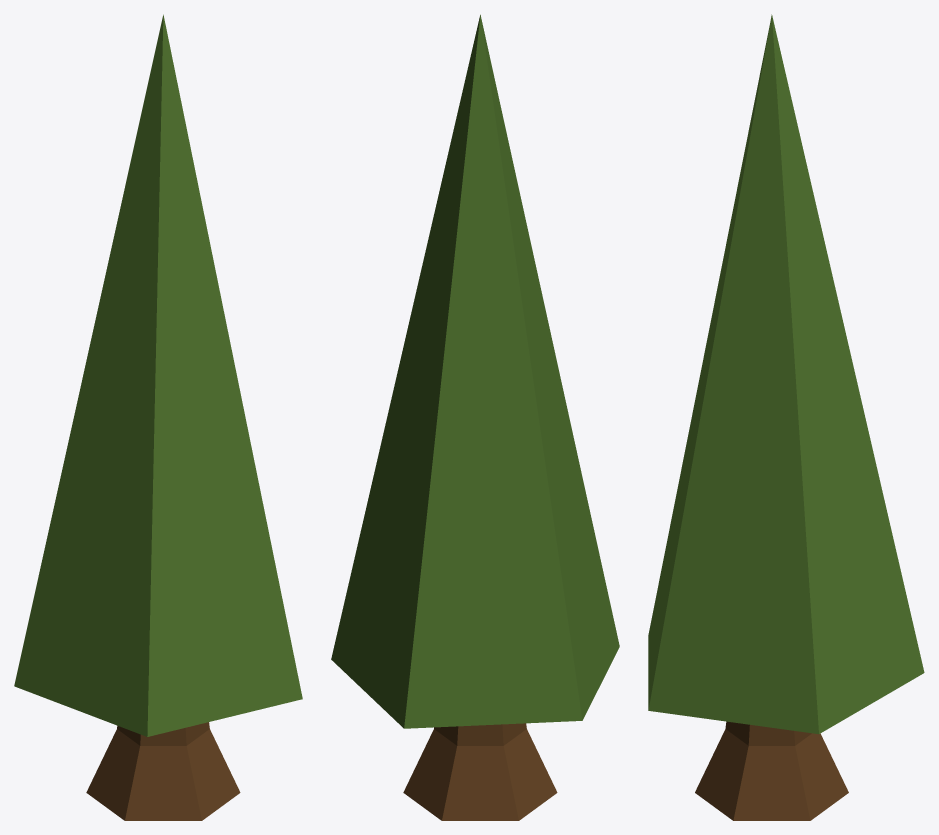
File: Tree3.fbx
3 renders of one model, left to right at view 1: azimuth 30°, elevation 25°; view 2: azimuth 150°, elevation 25°; view 3: azimuth 270°, elevation 25°, orthographic.
Visible parts, largest first — view 1: Cylinder; view 2: Cylinder; view 3: Cylinder.
Boxes of the visible parts, x1=… form: Cylinder: x1=14, y1=14, x2=302, y2=820; Cylinder: x1=331, y1=14, x2=619, y2=820; Cylinder: x1=648, y1=14, x2=924, y2=820.
Size of the model in its own units: 2.75 by 2.61 by 8.13.
